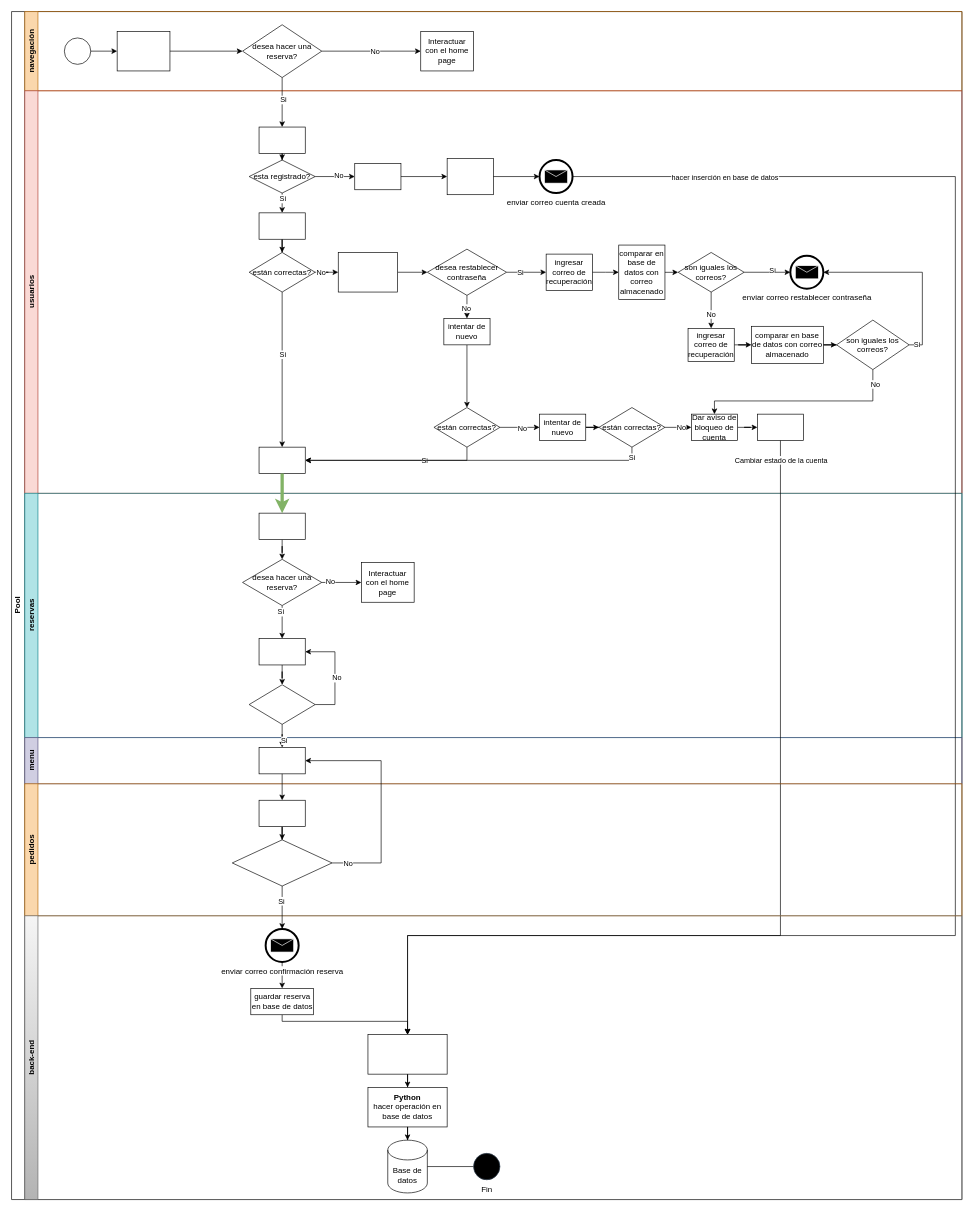
Some shapes in this 974 by 1211 pixel diagram are drawn without their labels. Here are the shapes that lost their labels. From the top down, the centre of each, then its label:
At pixel 143 51: "ingresa a la aplicación web".
At pixel 281 139: "Iniciar sesion".
At pixel 377 176: "registrarse".
At pixel 469 176: "llenar formulario de registro".
At pixel 281 225: "ingresar credenciales".
At pixel 368 272: "mostrar opción restablecer contraseña".
At pixel 780 427: "bloquear cuenta".
At pixel 281 460: "dar acceso a cuenta".
At pixel 281 526: "ver home de cliente".
At pixel 281 651: "llenar formulario de reserva".
At pixel 281 704: "confirmar reserva?".
At pixel 281 760: "ver menú a pedir".
At pixel 281 813: "seleccionar alimentos a pedir".
At pixel 282 862: "confirmar alimentos a pedir?".
At pixel 407 1054: "Javascript hacer llamado a endpoints".
